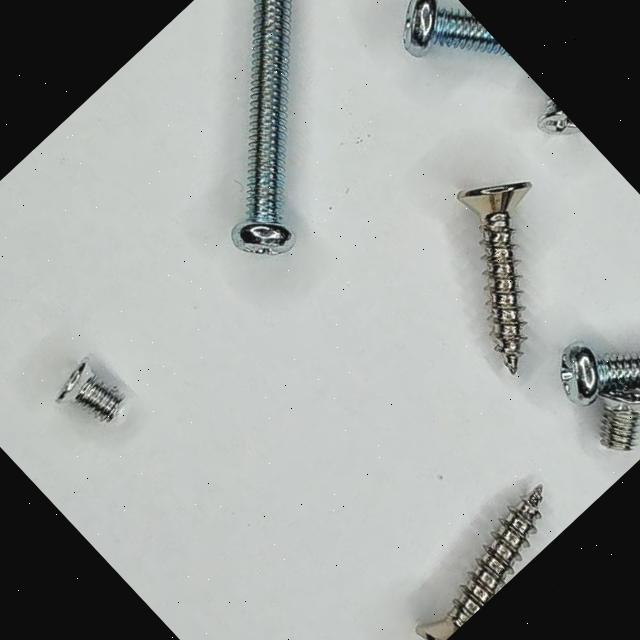Screw: (416, 485, 543, 640), (231, 0, 295, 255), (458, 182, 532, 374), (404, 0, 509, 55), (561, 342, 640, 405), (55, 360, 123, 423), (600, 389, 640, 451), (539, 96, 581, 133)
